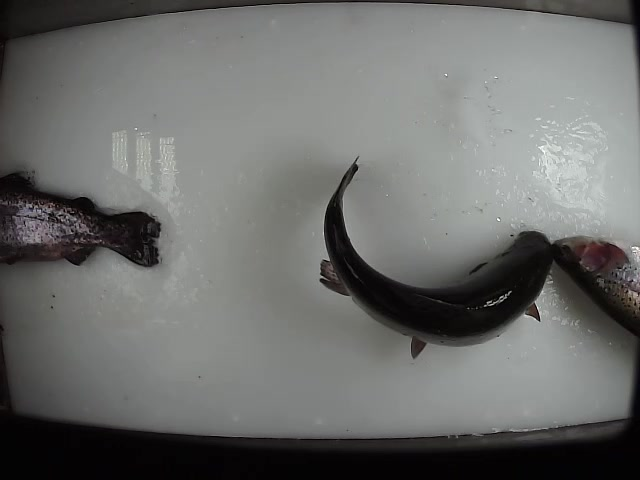fish: (316, 155, 555, 359)
